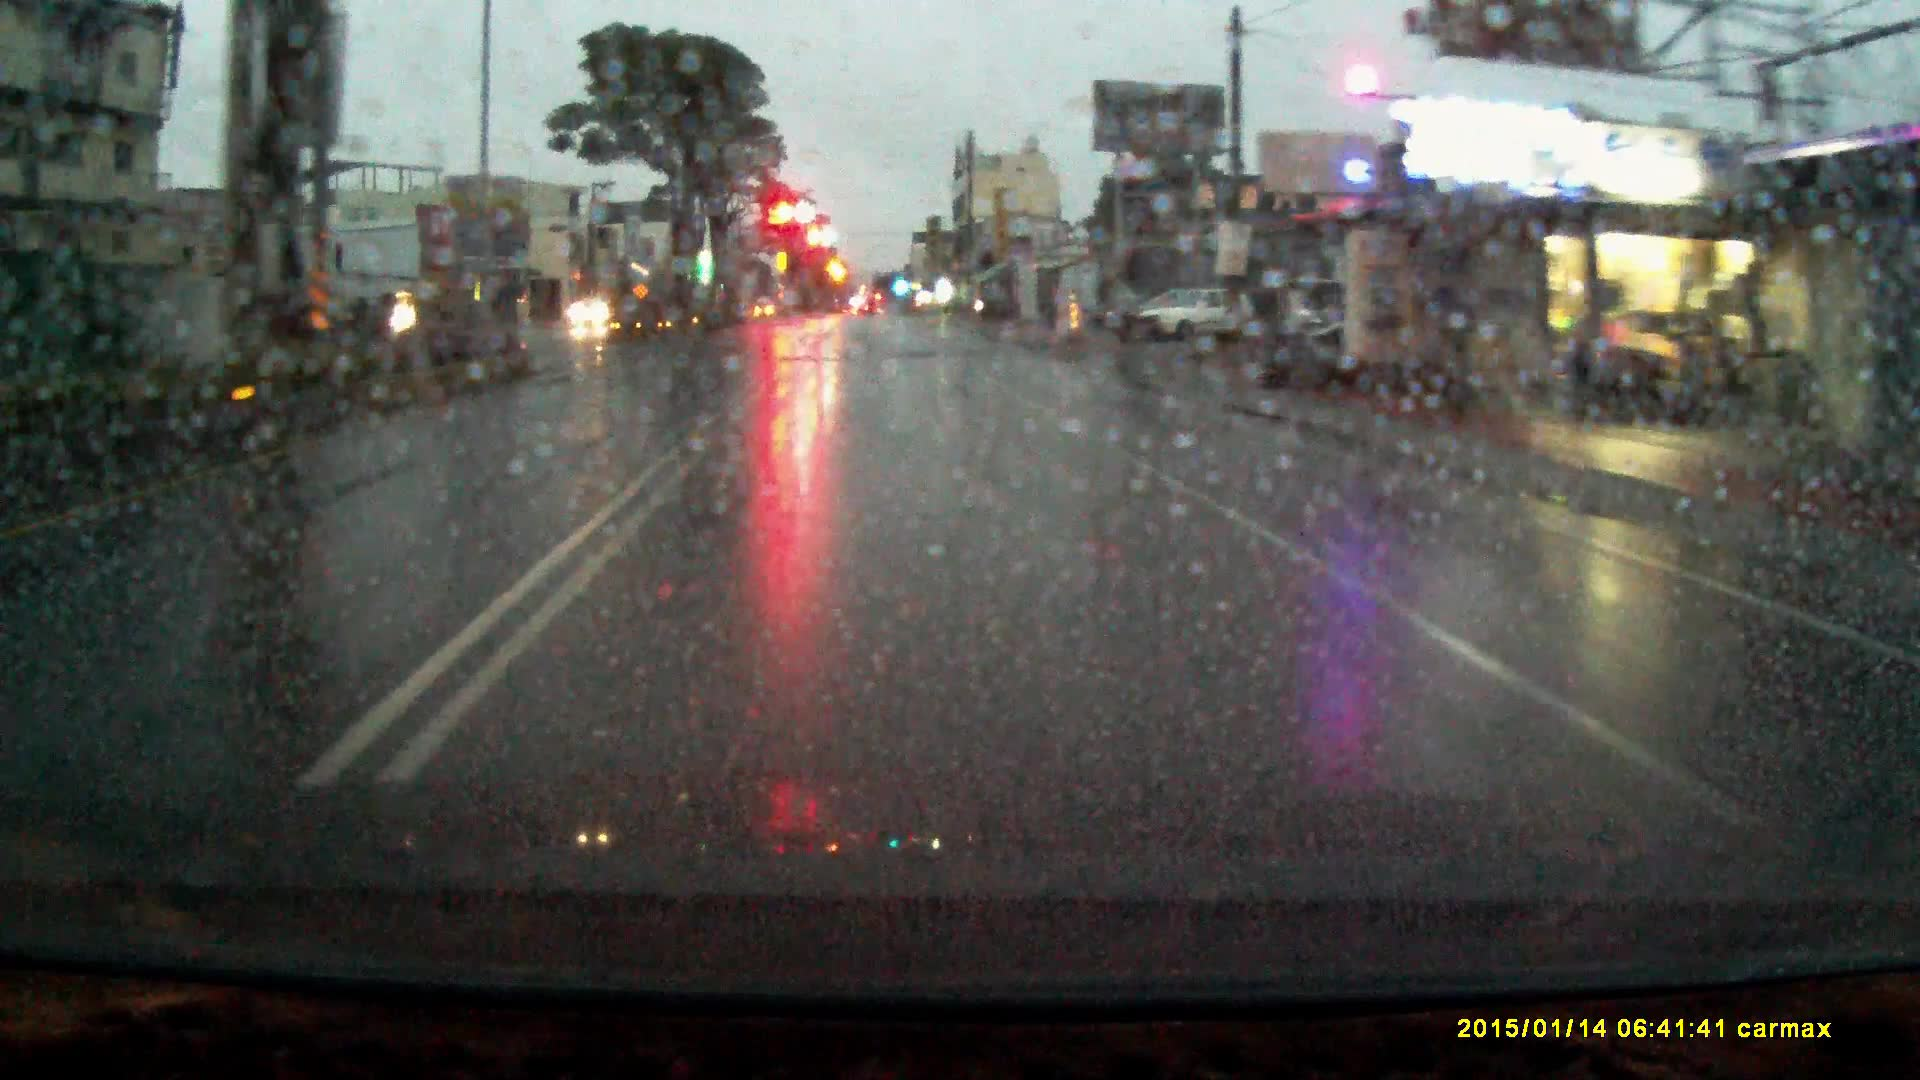vehicle: (1135, 284, 1263, 344), (568, 293, 618, 330)
